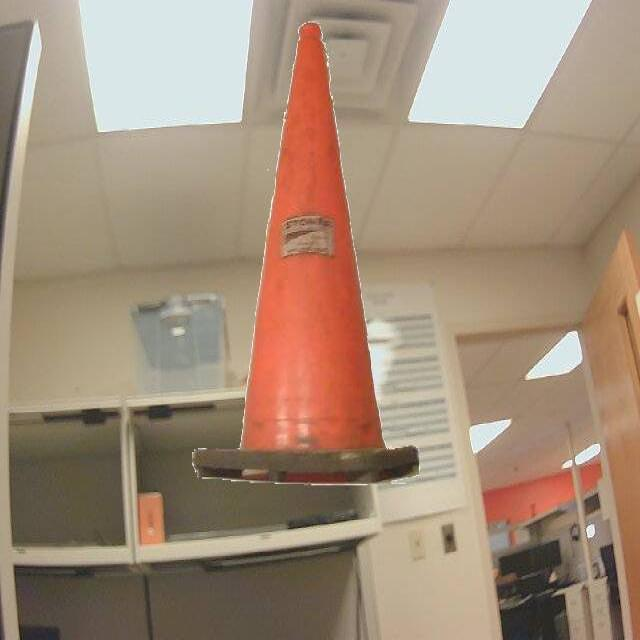traffic cone: (185, 12, 430, 500)
